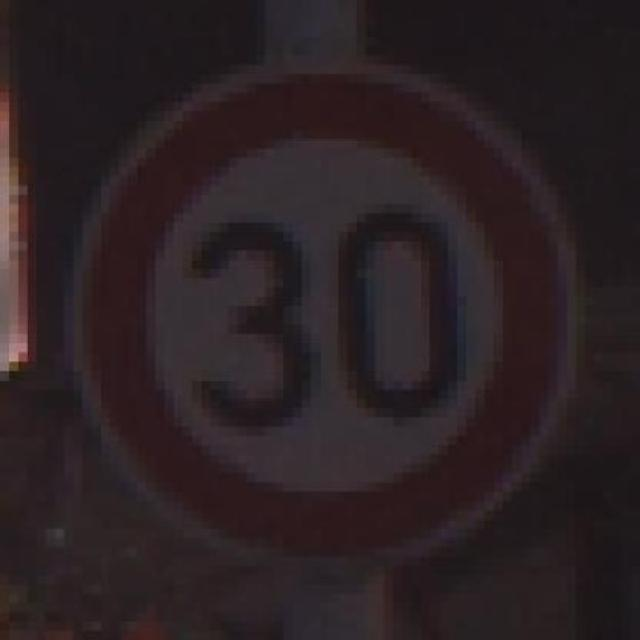Speed Limit 30 KMPh: (36, 83, 622, 575)
